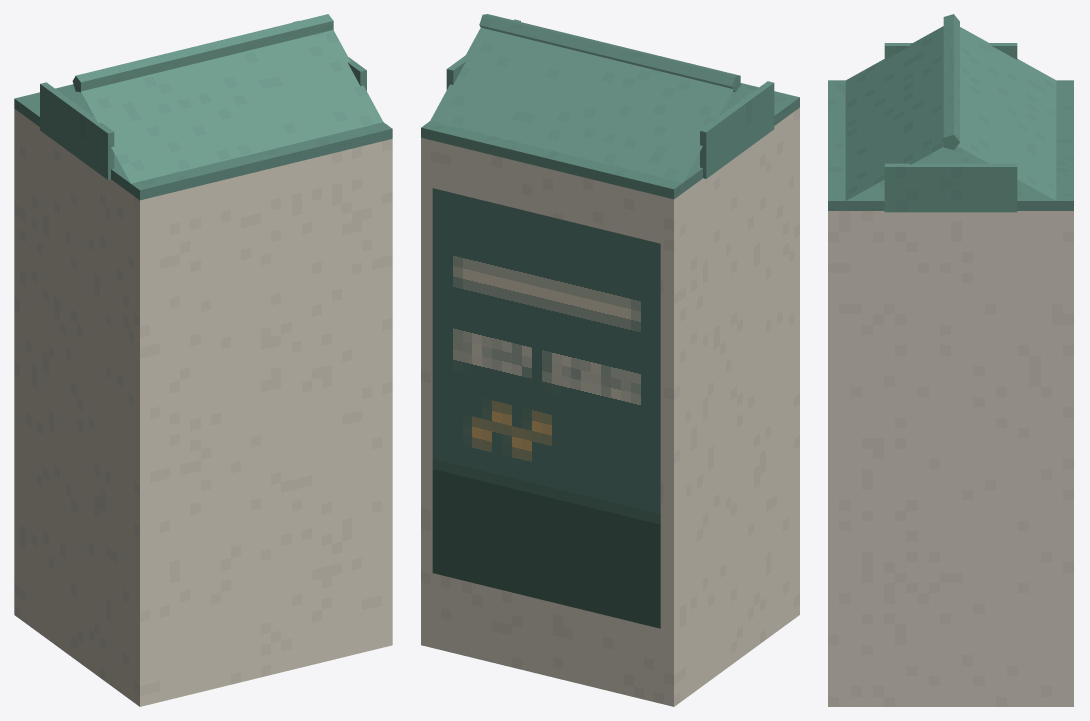
The model's file is milk_UHT.glb.
3 renders of one model, left to right at view 1: azimuth 30°, elevation 25°; view 2: azimuth 150°, elevation 25°; view 3: azimuth 270°, elevation 25°, orthographic. The views are drawn at different scales.
Visible parts, largest first — view 1: block_creased carton, block_paper fold 1, block_sealed top, block_clipped seam 0, block_roof end -1; view 2: block_creased carton, block_front panel, block_paper fold -1, block_sealed top, block_clipped seam 0, block_roof end -1; view 3: block_creased carton, block_paper fold 1, block_paper fold -1, block_sealed top, block_roof end 1, block_clipped seam 0, block_roof end -1.
Part boxes in pixels (<box>): block_creased carton: <box>14,109,392,706</box>; block_paper fold 1: <box>81,30,383,183</box>; block_sealed top: <box>14,84,392,200</box>; block_clipped seam 0: <box>72,14,333,92</box>; block_roof end -1: <box>40,82,114,179</box>; block_creased carton: <box>421,107,799,706</box>; block_front panel: <box>432,188,660,628</box>; block_paper fold -1: <box>430,27,733,182</box>; block_sealed top: <box>421,83,799,199</box>; block_clipped seam 0: <box>479,14,740,92</box>; block_roof end -1: <box>700,81,774,178</box>; block_creased carton: <box>828,211,1073,706</box>; block_paper fold 1: <box>845,26,943,200</box>; block_paper fold -1: <box>957,27,1056,200</box>; block_sealed top: <box>828,80,1073,210</box>; block_roof end 1: <box>884,163,1017,212</box>; block_clipped seam 0: <box>943,14,959,150</box>; block_roof end -1: <box>884,43,1017,59</box>.
Bounding box in the file's own units: 0.081 × 0.1746 × 0.0685.
1 material, 1 textured.
